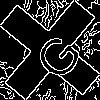G: (25, 25, 85, 84)
